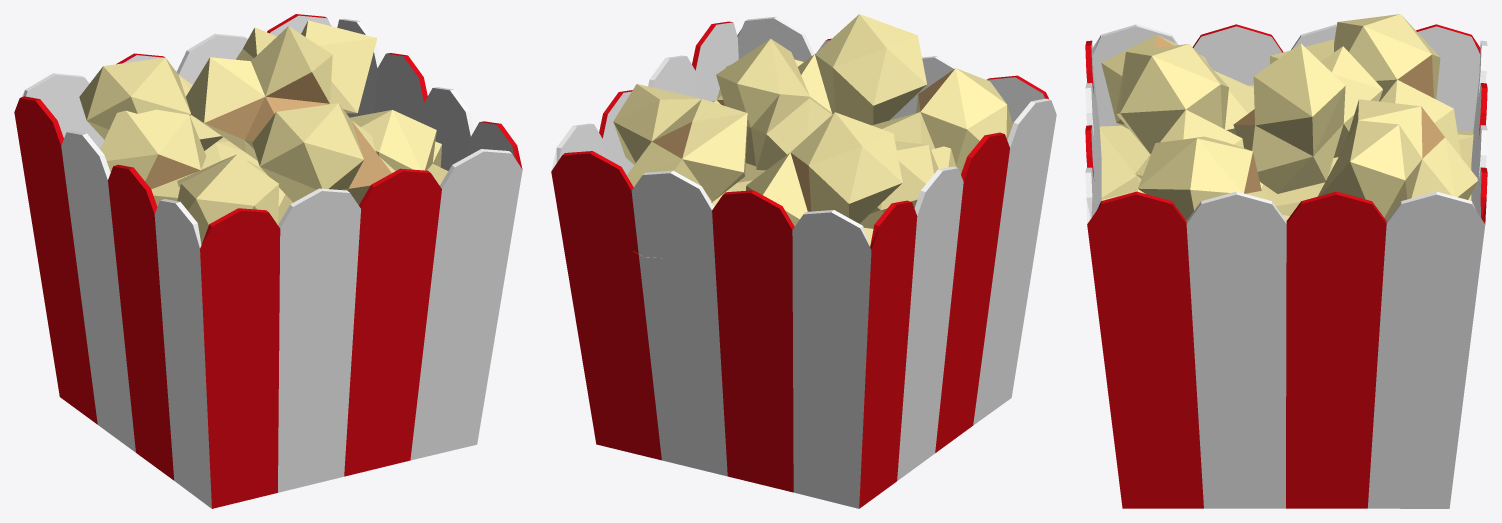
Rendered from popcorn.fbx.
The picture shows the model from 3 angles, left to right: view 1: azimuth 30°, elevation 25°; view 2: azimuth 150°, elevation 25°; view 3: azimuth 270°, elevation 25°; orthographic projection. The views are drawn at different scales.
Parts seen in each view (by area): view 1: popcorn; view 2: popcorn; view 3: popcorn.
Boxes of the visible parts, x1,y1,x2,y2 form: popcorn: (14,14,522,508); popcorn: (551,14,1056,508); popcorn: (1085,14,1487,508).
Bounding box in the file's own units: 14.81 × 16.64 × 14.78.
